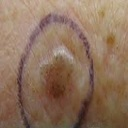Carcinoma: (33, 47, 79, 104)
